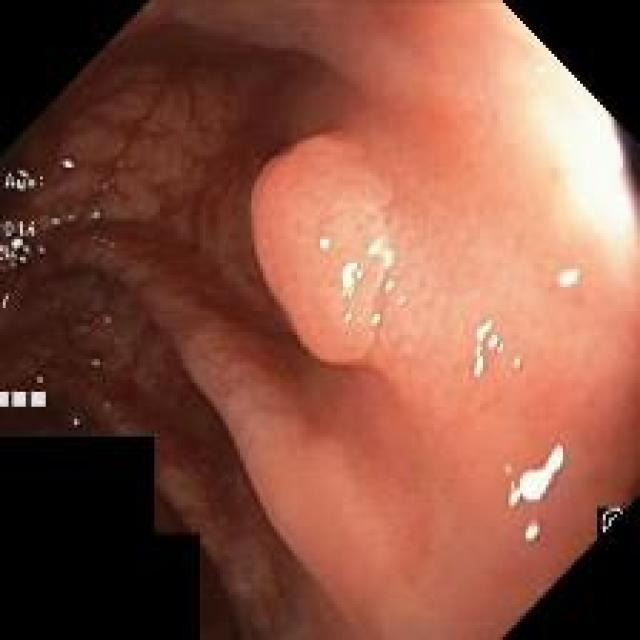Polyps: (251, 135, 395, 364)
